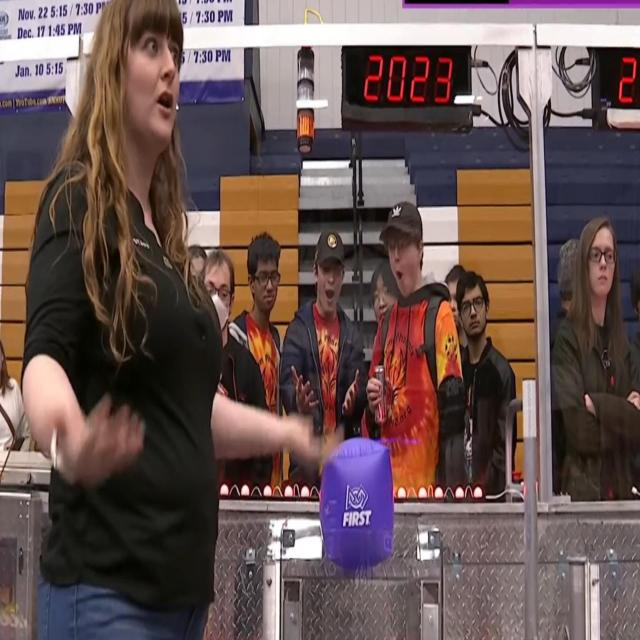frc_cube: (318, 436, 392, 568)
